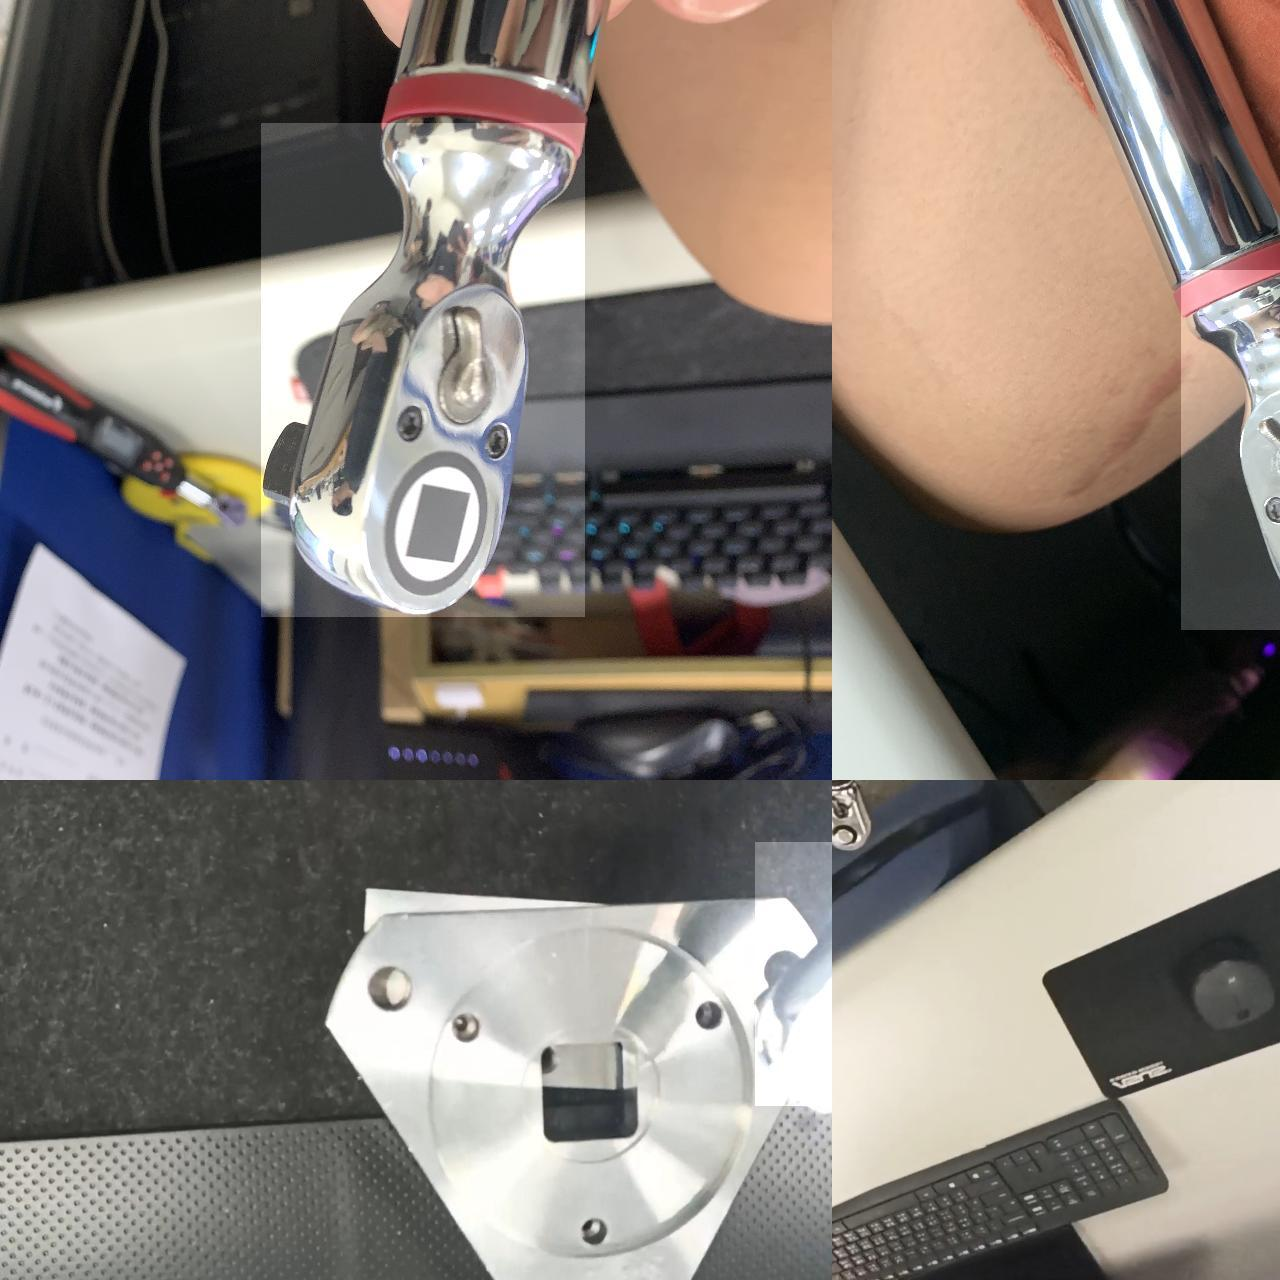Tool: (261, 123, 585, 617), (1182, 270, 1280, 629), (755, 842, 832, 1107), (832, 779, 874, 847)
hole: (363, 959, 416, 1019), (568, 1201, 612, 1257), (688, 994, 728, 1037), (451, 1013, 482, 1054)
